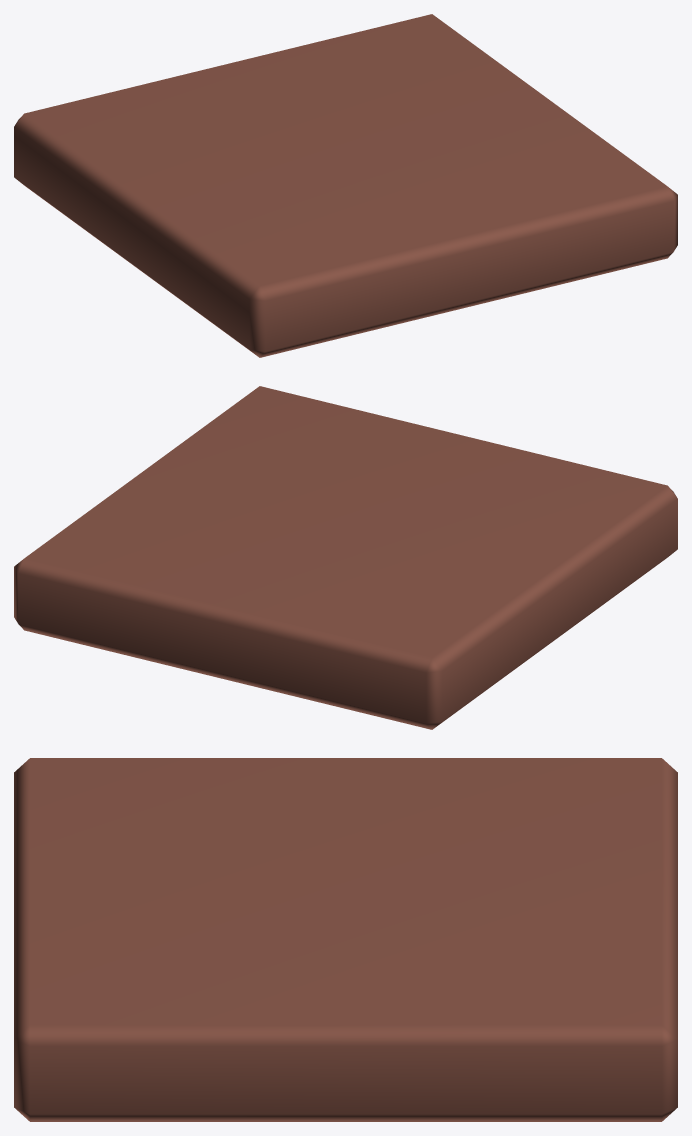
Rendered from Farm_18_Ground_1.glb.
3 renders of one model, top to bottom at view 1: azimuth 30°, elevation 25°; view 2: azimuth 150°, elevation 25°; view 3: azimuth 270°, elevation 25°, orthographic. The views are drawn at different scales.
Parts seen in each view (by area): view 1: Farm_18_Ground_1; view 2: Farm_18_Ground_1; view 3: Farm_18_Ground_1.
Part boxes in pixels (left/top/right/bottom): Farm_18_Ground_1: left=14, top=14, right=677, bottom=357; Farm_18_Ground_1: left=14, top=386, right=677, bottom=729; Farm_18_Ground_1: left=14, top=758, right=677, bottom=1121.
Bounding box in the file's own units: 0.889 × 0.1429 × 0.889.
Materials: 1 (1 with a texture image).
